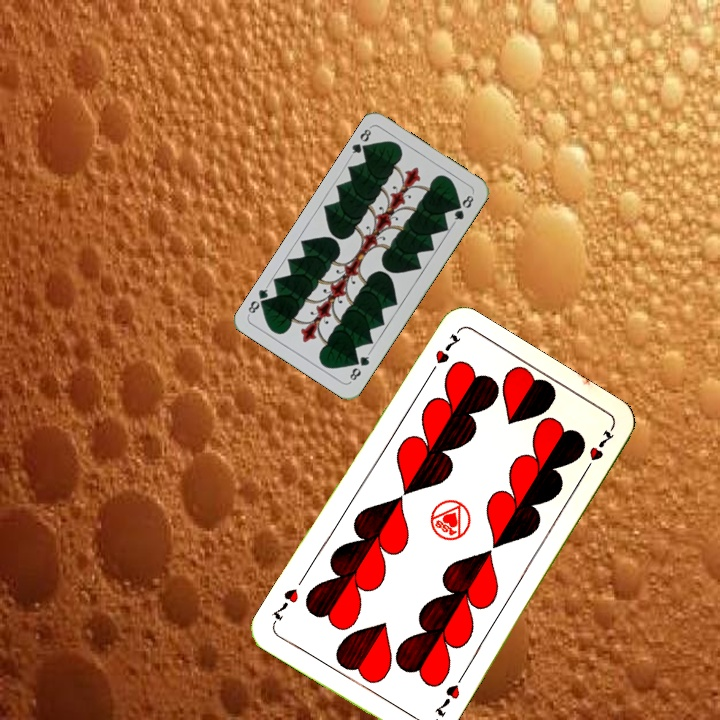G8: (345, 348, 373, 385), (346, 123, 374, 160)
H7: (423, 328, 464, 381), (430, 680, 463, 719)
